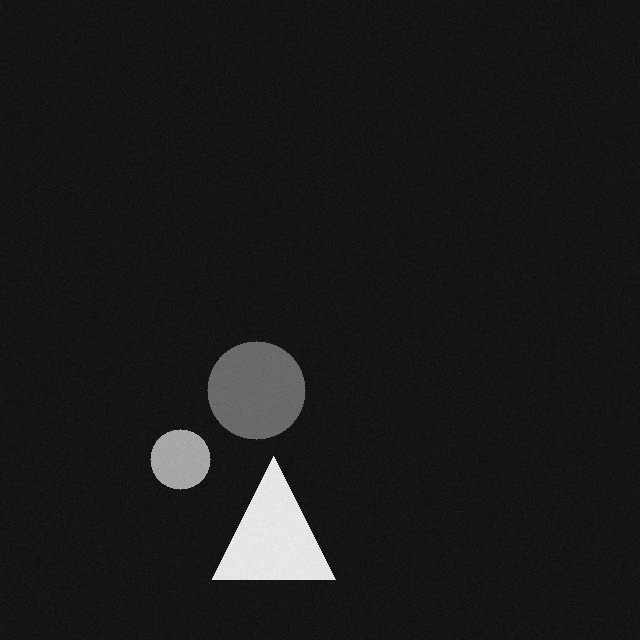circle: (220, 344, 318, 442), (163, 432, 223, 492)
triangle: (225, 459, 348, 582)
